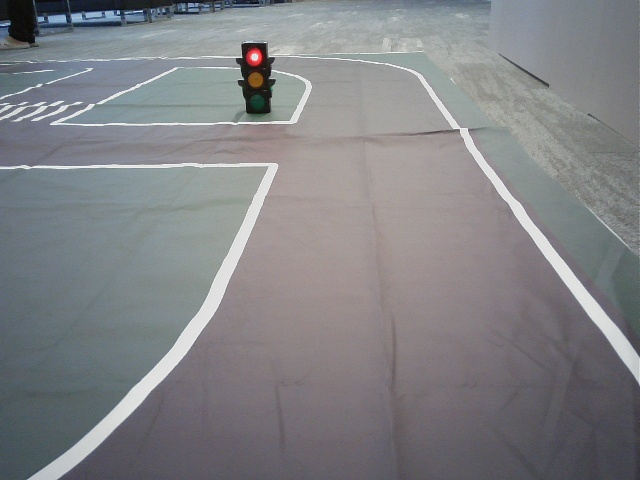red: (242, 44, 267, 112)
